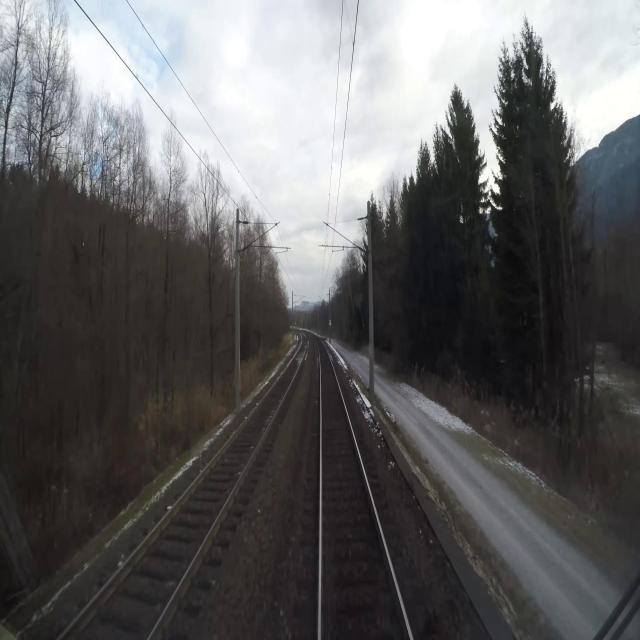rail-track: (63, 336, 305, 639), (317, 340, 408, 639)
